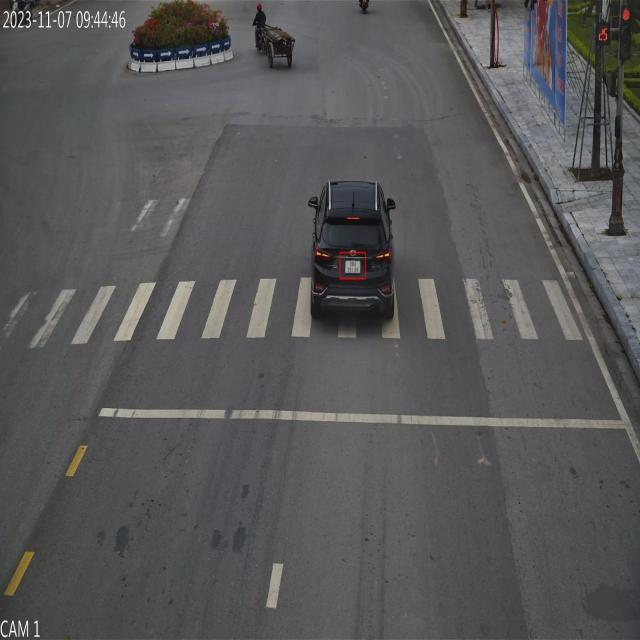Red: (620, 7, 632, 58)
